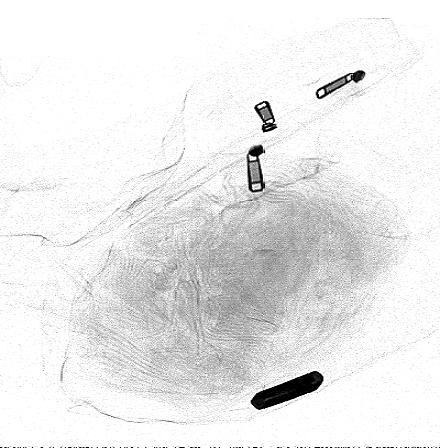Lighter: (249, 371, 324, 411)
